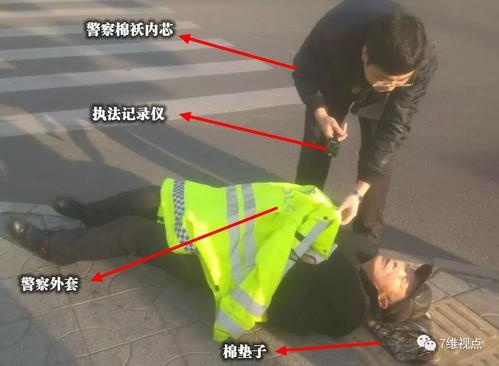falling: (3, 159, 440, 363)
